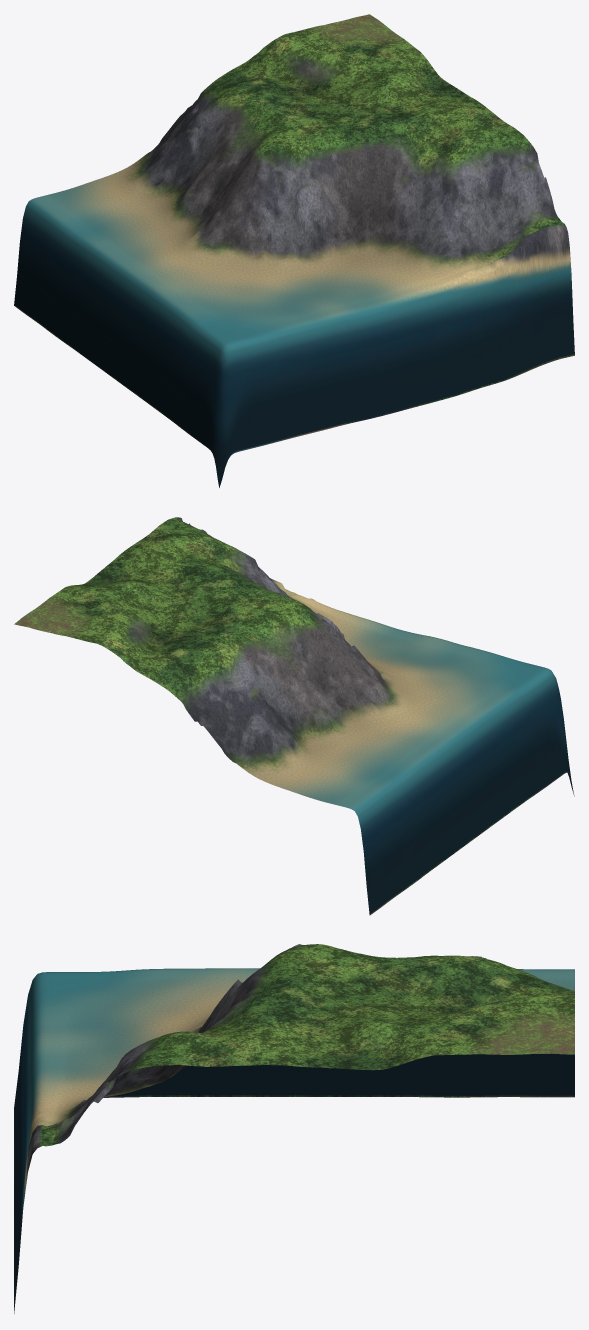
3 renders of one model, top to bottom at view 1: azimuth 30°, elevation 25°; view 2: azimuth 150°, elevation 25°; view 3: azimuth 270°, elevation 25°, orthographic. The views are drawn at different scales.
Parts seen in each view (by area): view 1: t000_000; view 2: t000_000; view 3: t000_000.
Part boxes in pixels (x1,y1,x2,y2): t000_000: (14, 14, 574, 487); t000_000: (14, 517, 574, 915); t000_000: (14, 944, 574, 1313).
Bounding box in the file's own units: 64 × 41 × 64.
1 material, 1 textured.
